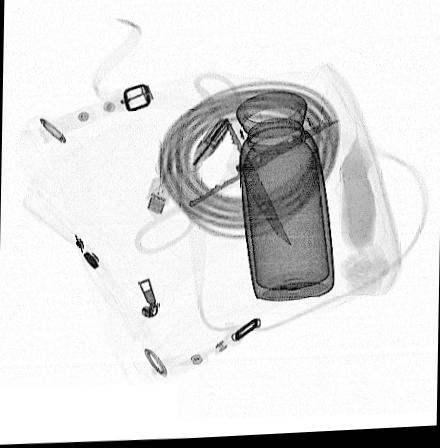Scissors: (133, 74, 340, 255)
